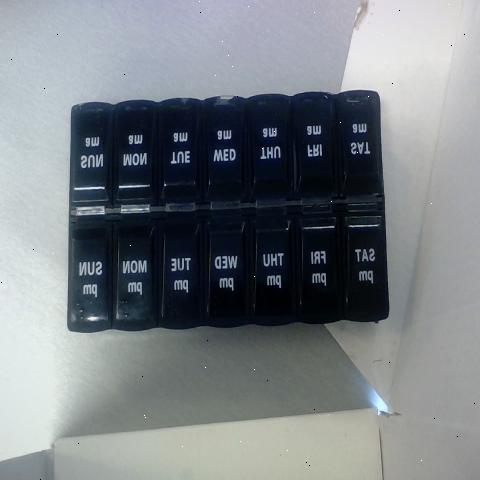FRI-am: (299, 94, 334, 188)
FRI-pm: (303, 207, 341, 315)
MON-am: (114, 103, 158, 207)
MON-pm: (116, 214, 155, 319)
SAT-am: (341, 91, 380, 188)
SAT-pm: (72, 102, 108, 207)
SUN-am: (346, 209, 381, 306)
SUN-pm: (68, 227, 107, 319)
THU-am: (251, 100, 291, 195)
THU-pm: (258, 210, 298, 318)
TUE-am: (159, 100, 200, 203)
TUE-pm: (161, 208, 204, 318)
WED-am: (207, 96, 248, 200)
WED-pm: (213, 207, 254, 319)
